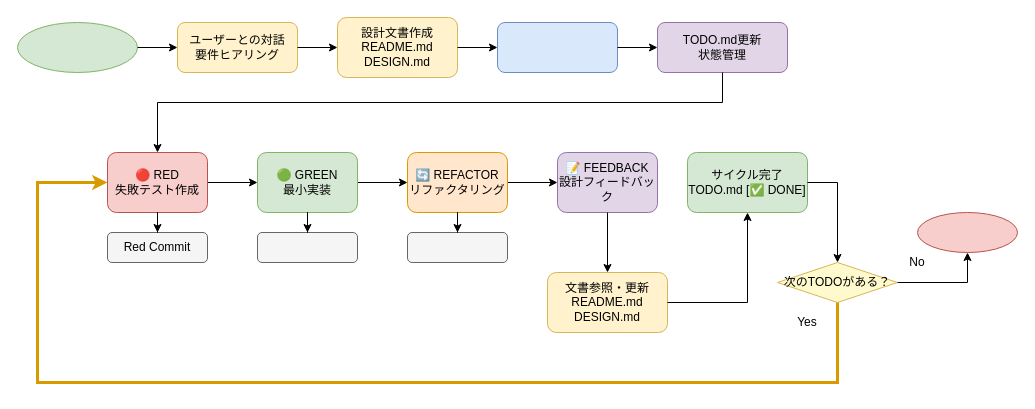
Some shapes in this 1035 by 409 pixel diagram are drawn without their labels. Each missing label, with the centre of its shape:
Green Commit: (307,247)
Refactor Commit: (457,247)
TDDサイクル開始 TODO選択・分解: (557,47)
プロジェクト開始: (77,47)
開発完了: (967,232)
